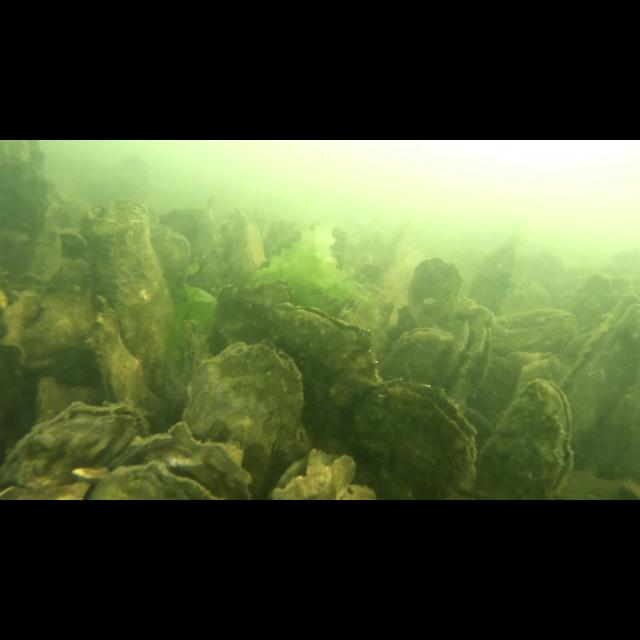Oyster-Closed: (184, 338, 308, 500), (80, 197, 176, 383), (270, 303, 380, 452), (86, 306, 162, 429), (22, 255, 92, 353), (208, 280, 294, 344), (382, 325, 452, 391), (164, 317, 208, 418), (406, 255, 462, 331), (491, 308, 577, 354)
Oyster-Open: (352, 380, 478, 500), (0, 402, 150, 500), (556, 292, 640, 464), (91, 424, 247, 501), (474, 380, 574, 500), (270, 448, 378, 500), (439, 324, 488, 406)
